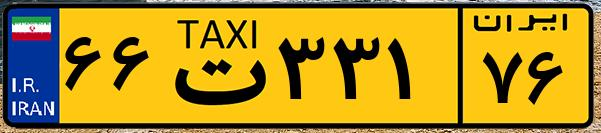1: (385, 28, 445, 110)
3: (270, 28, 330, 110), (330, 28, 385, 110)
6: (57, 26, 110, 100), (525, 38, 570, 115), (110, 28, 158, 98)
7: (475, 38, 525, 113)
ت: (158, 12, 270, 120)
